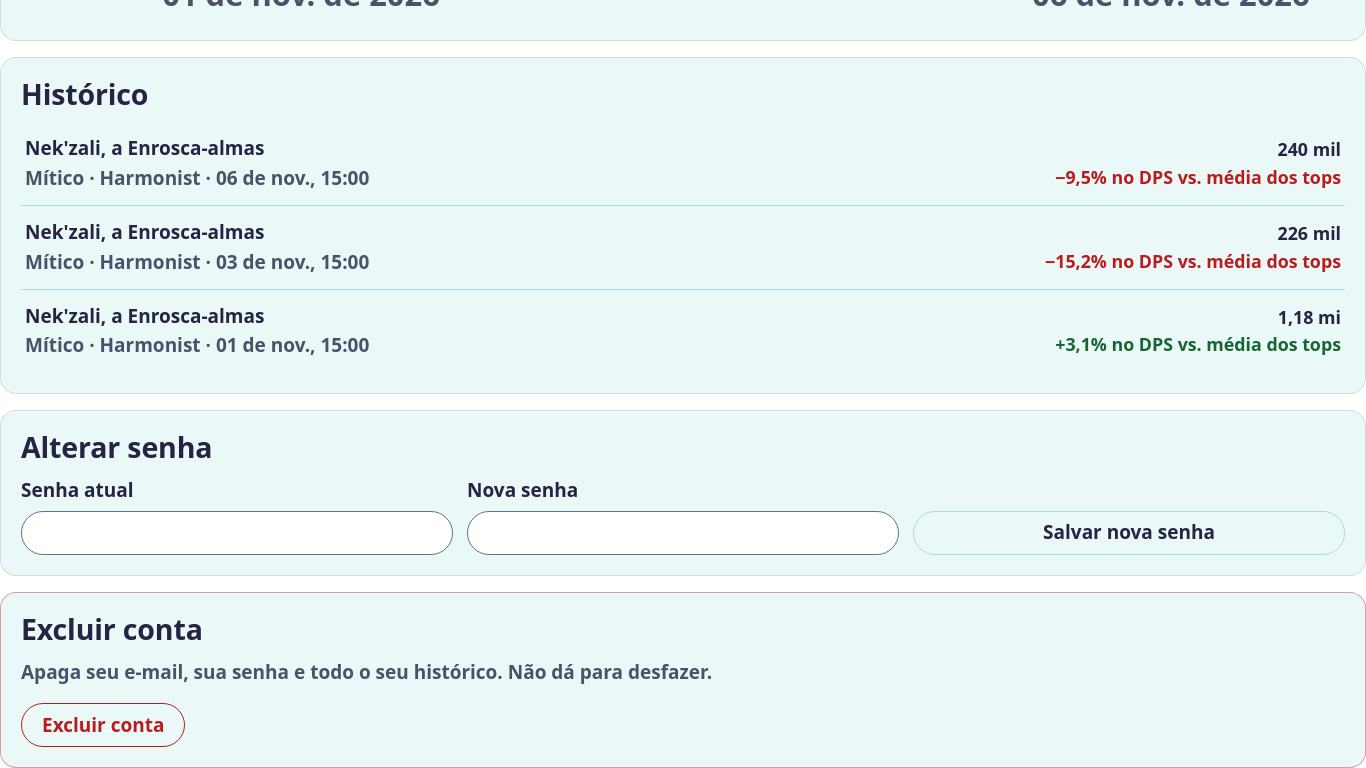
Test: Profile › excluir conta › pede confirmação e dá para cancelar sem apagar nada
(page scrolled)
Click the button "Excluir conta": (103, 725) x1=21 y1=703 x2=185 y2=747
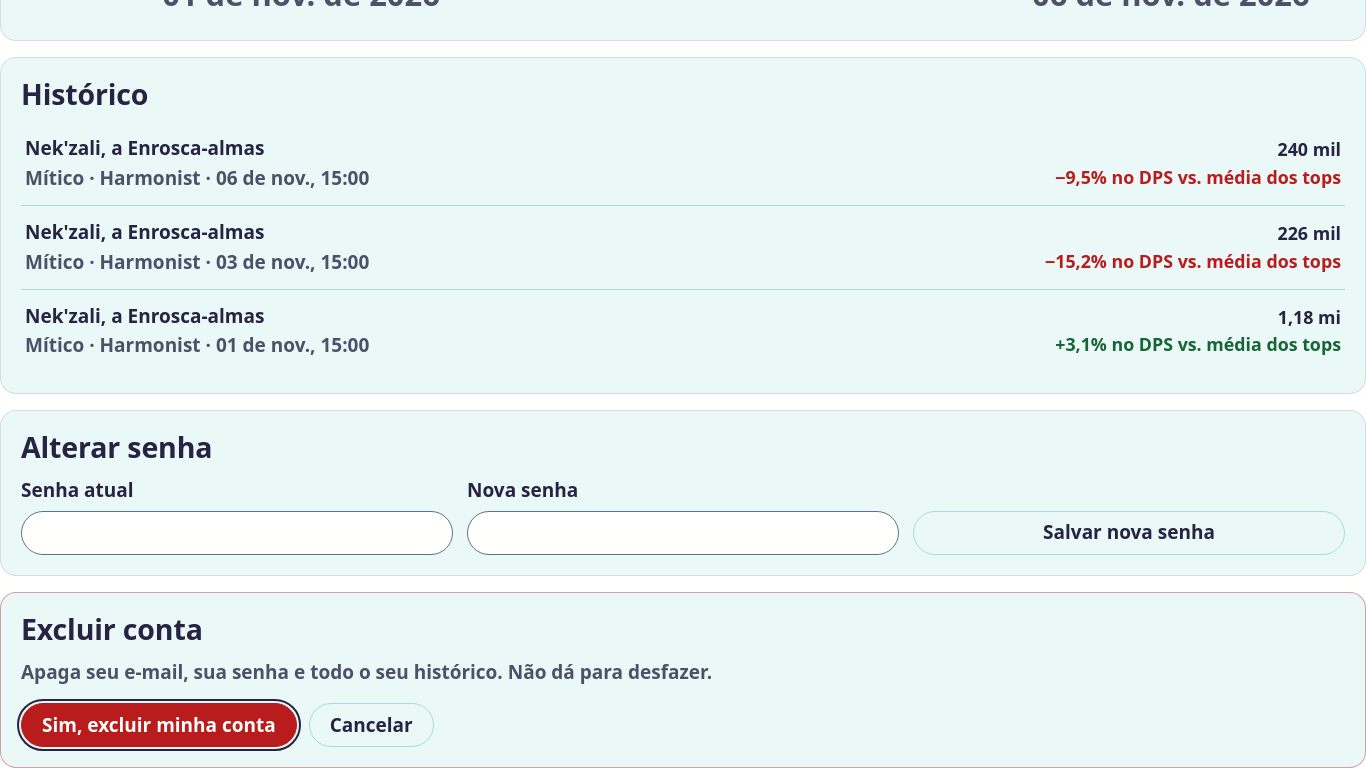
Expected: the button "Sim, excluir minha conta" is shown, x1=21 y1=703 x2=297 y2=747
Click the button "Cancelar": (371, 725) x1=309 y1=703 x2=434 y2=747
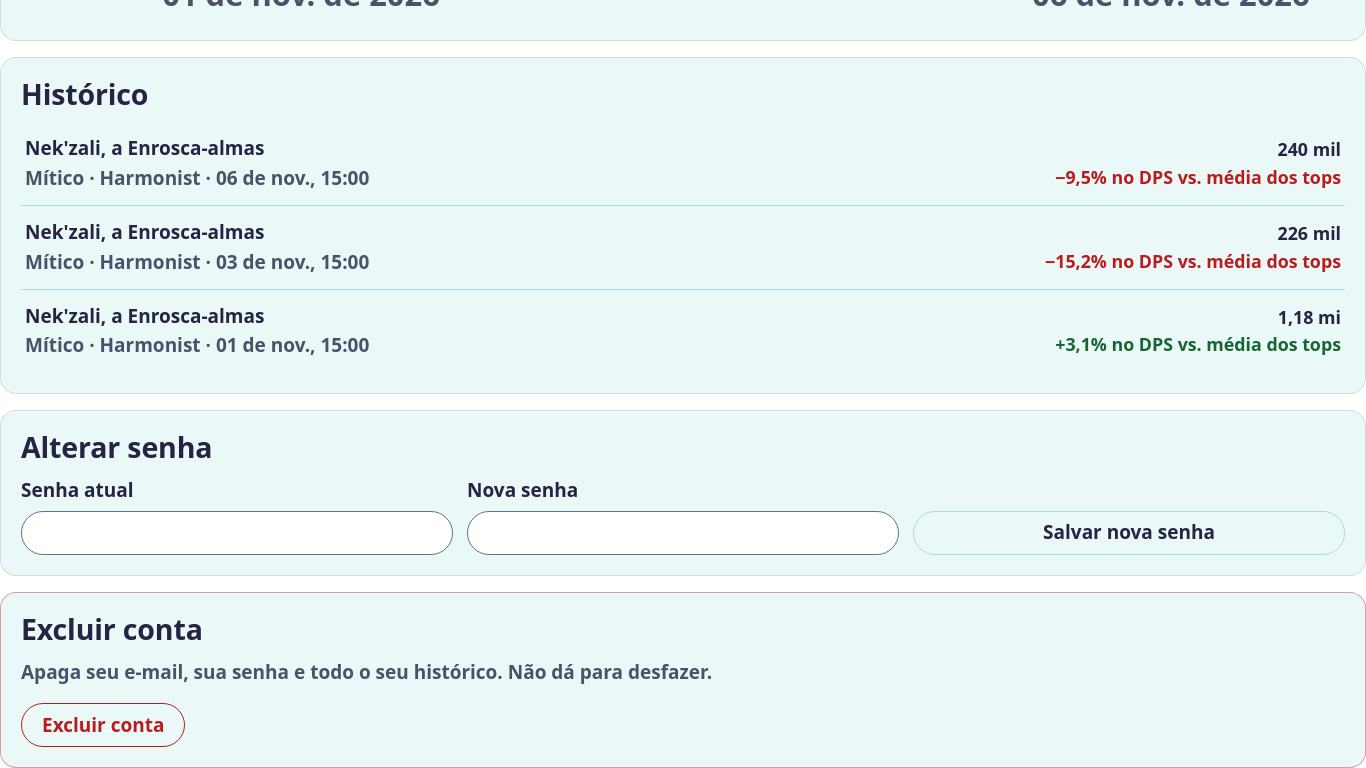
Expected: the button "Excluir conta" is shown, x1=21 y1=703 x2=185 y2=747
Expected: the button "Sim, excluir minha conta" is gone
